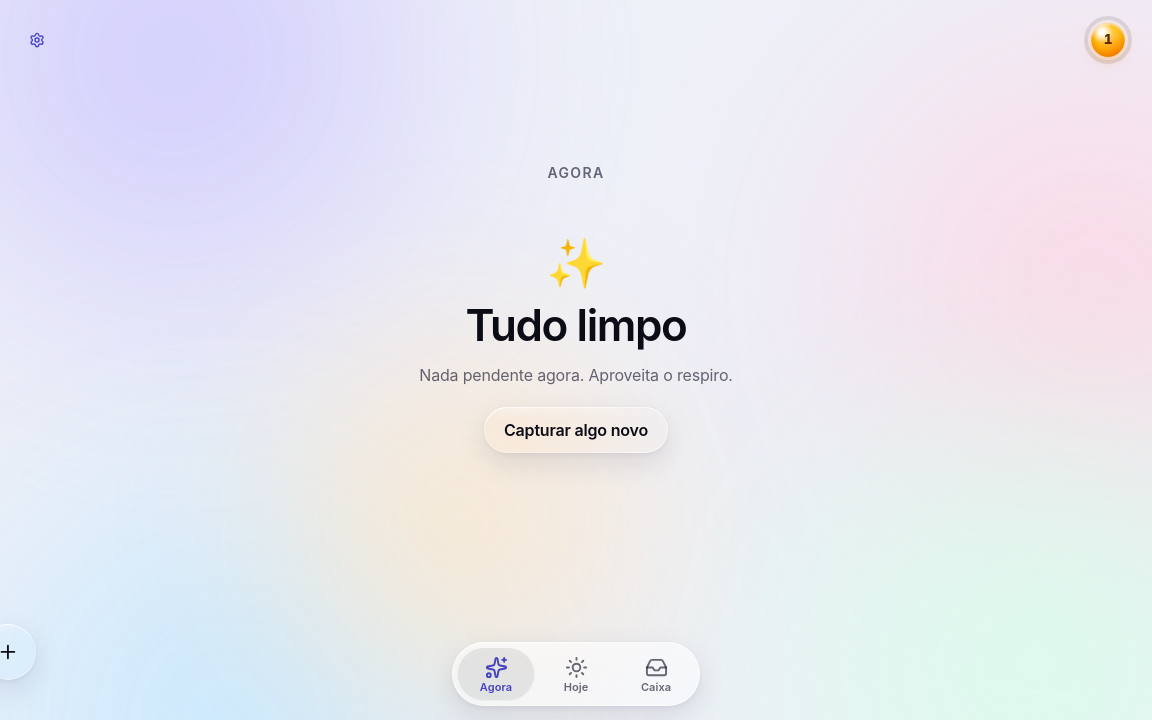
Scenario: Shell › engrenagem no topo abre os Ajustes, sem virar 4ª aba
Expected: the number of tabs is 3, [457,647,535,701]; [537,647,615,701]; [617,647,695,701]
Click the button named "Ajustes" at (37, 40), box [20,23,54,57]
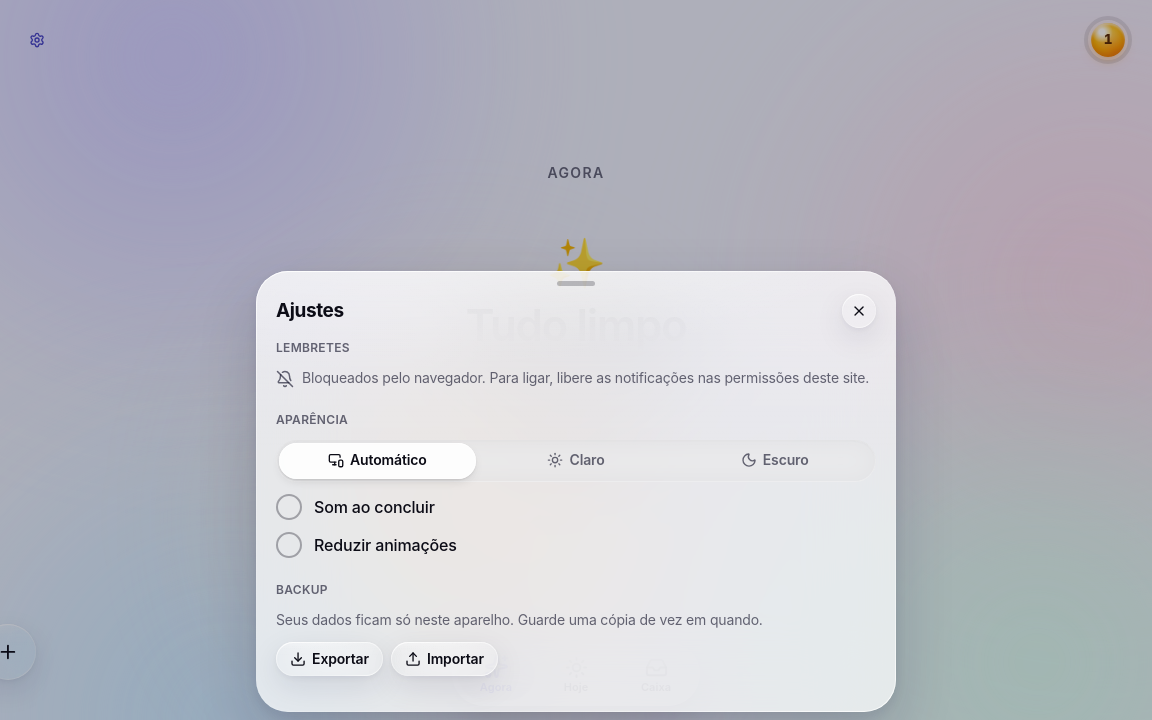
Result: the dialog "Ajustes" is shown at [256,271,896,712]
